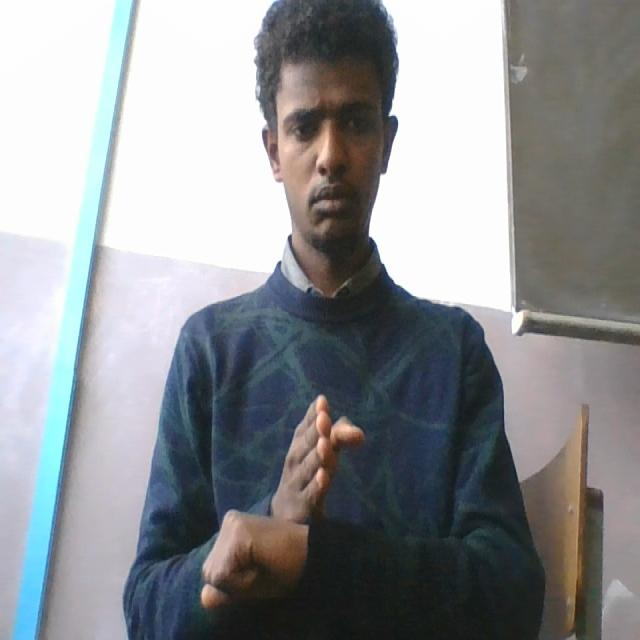behuala: (198, 387, 373, 621)
